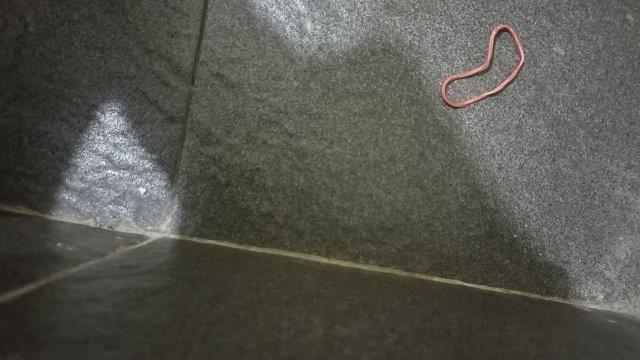karet: (440, 23, 525, 108)
